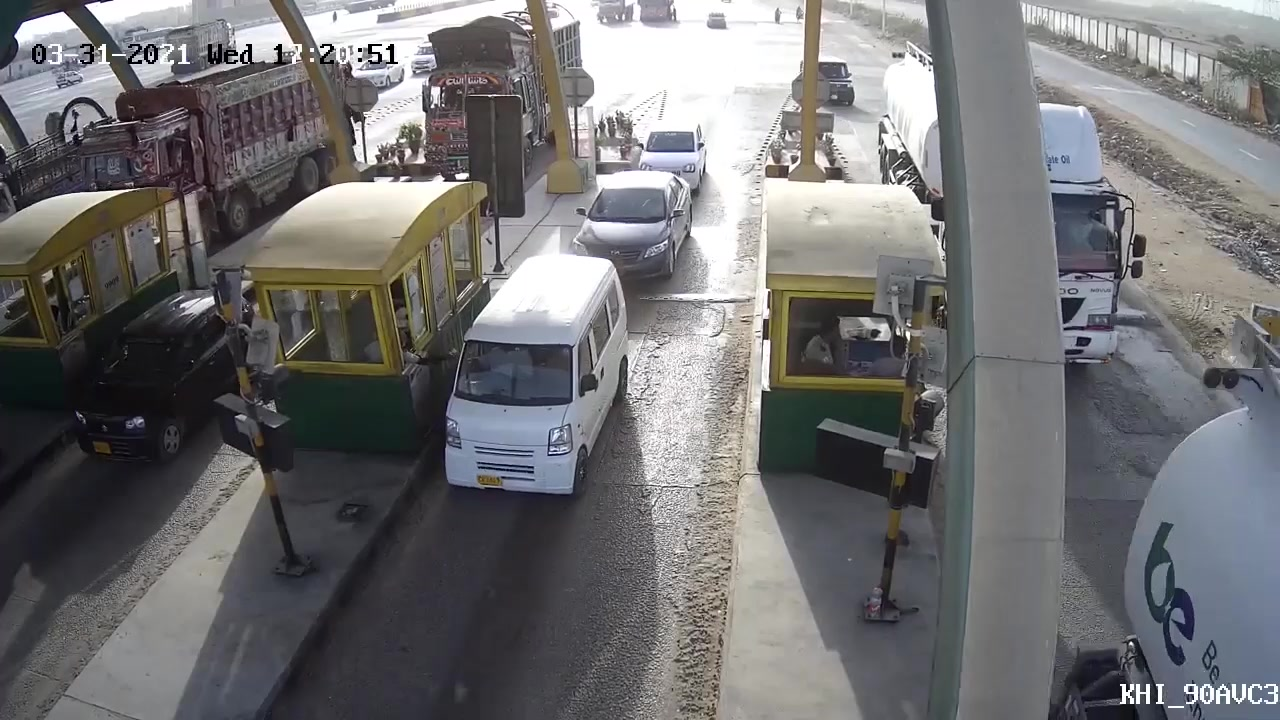F1: (431, 253, 633, 517), (574, 166, 694, 286)
